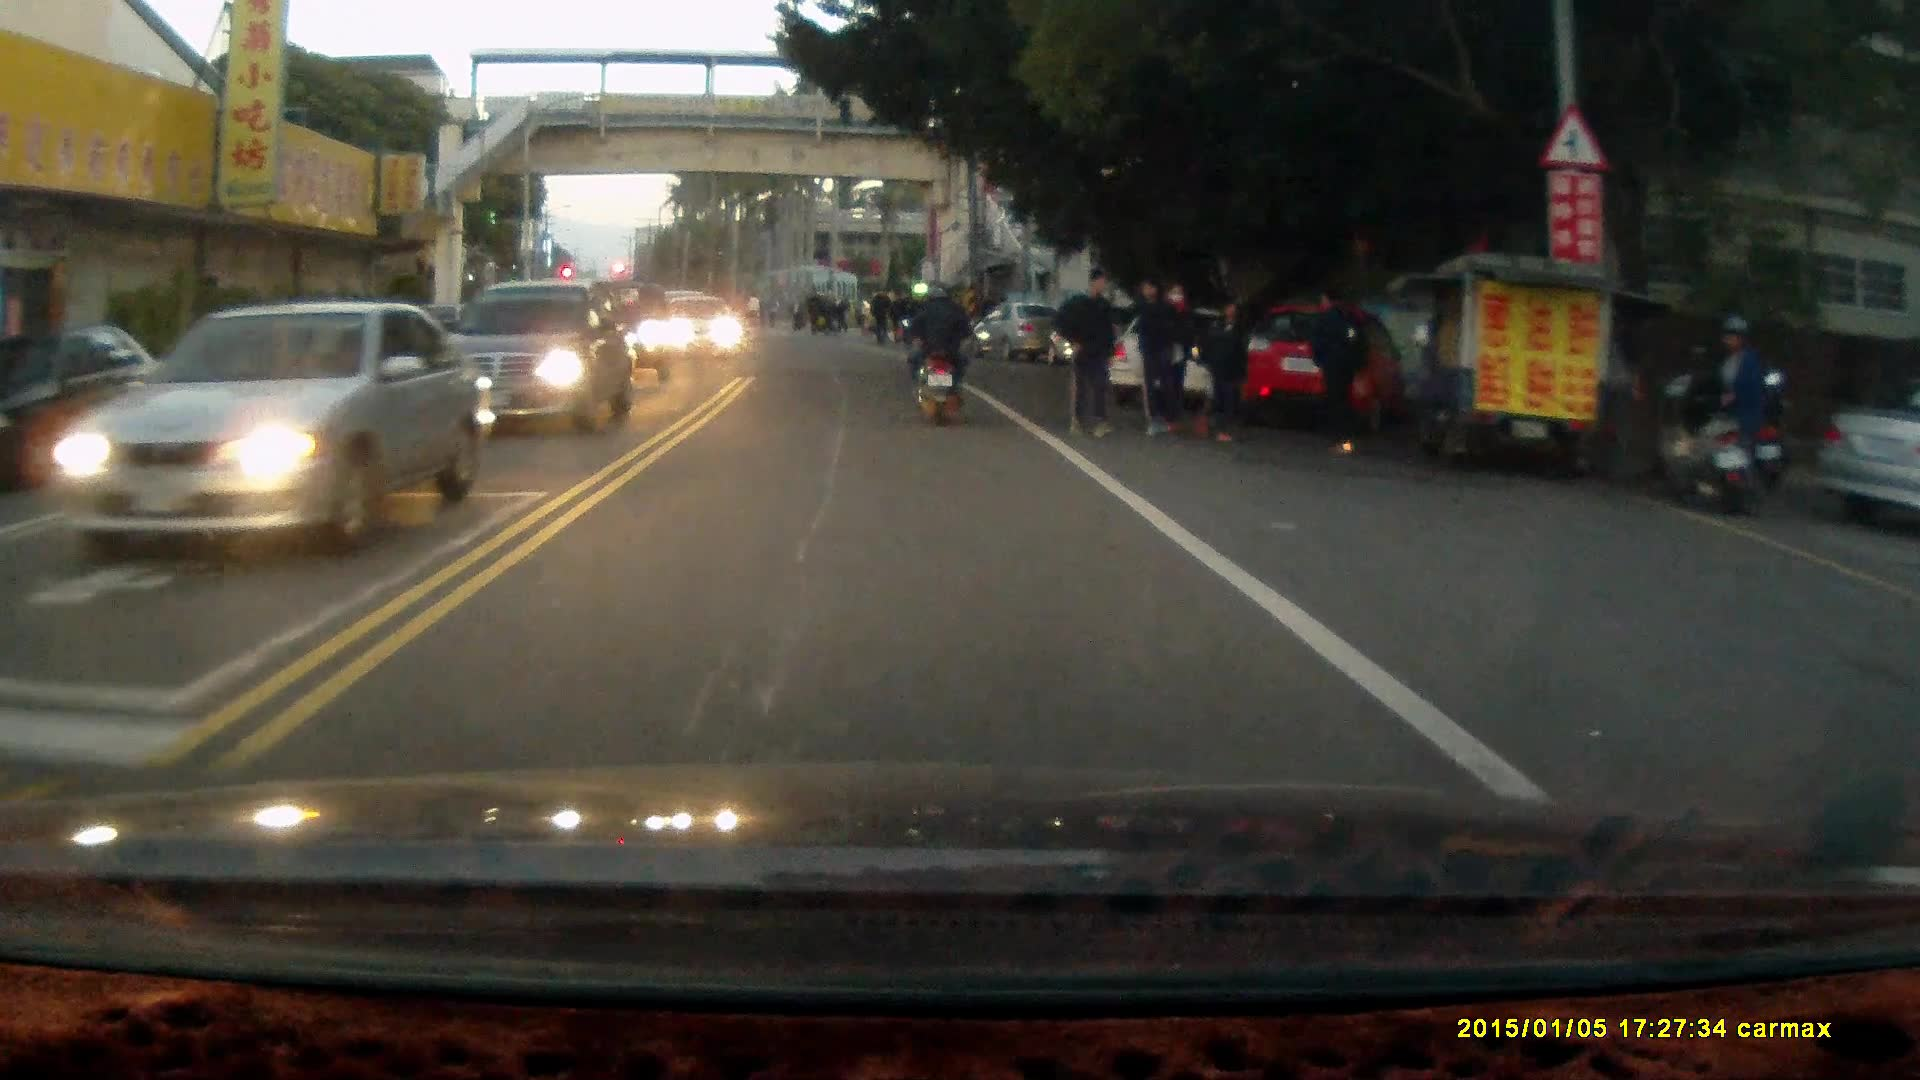pedestrian: (1055, 264, 1122, 441), (1723, 293, 1784, 487), (1304, 284, 1371, 449), (1195, 293, 1256, 448), (1131, 278, 1182, 441)
rider: (900, 277, 974, 428)
vehicle: (39, 299, 477, 551), (1, 328, 184, 492), (450, 278, 634, 432), (1100, 302, 1291, 417), (1230, 297, 1402, 425), (1812, 380, 1920, 540), (663, 296, 749, 363), (981, 302, 1063, 363)
